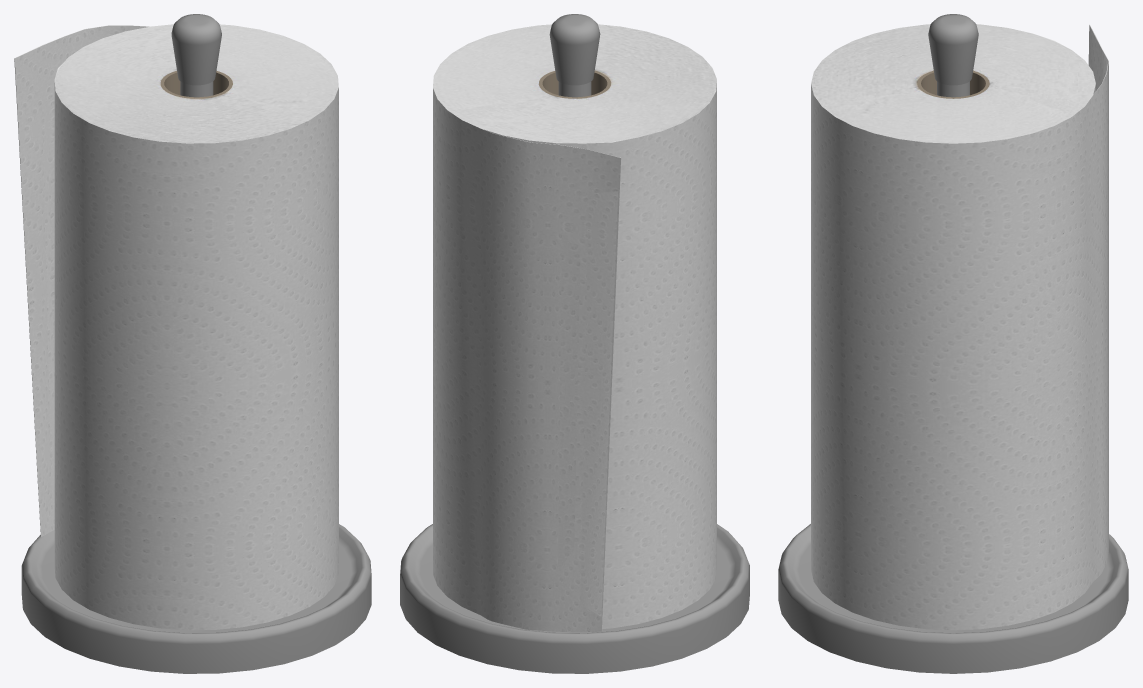
The model's file is paper_towel_roll.glb.
The picture shows the model from 3 angles, left to right: view 1: azimuth 30°, elevation 25°; view 2: azimuth 150°, elevation 25°; view 3: azimuth 270°, elevation 25°; orthographic projection.
Visible parts, largest first — view 1: Object_3, Object_4, Object_2, Object_5; view 2: Object_3, Object_4, Object_2, Object_5; view 3: Object_3, Object_4, Object_2, Object_5.
Boxes of the visible parts, x1,y1,x2,y2 form: Object_3: (14, 25, 338, 630); Object_4: (54, 24, 338, 143); Object_2: (21, 14, 371, 673); Object_5: (160, 70, 232, 98); Object_3: (433, 83, 716, 632); Object_4: (433, 24, 716, 143); Object_2: (400, 14, 749, 673); Object_5: (538, 71, 611, 98); Object_3: (811, 24, 1108, 630); Object_4: (811, 24, 1095, 143); Object_2: (778, 14, 1128, 673); Object_5: (917, 70, 989, 98).
Size of the model in its own units: 16 by 29.19 by 16.
4 materials, 2 textured.
